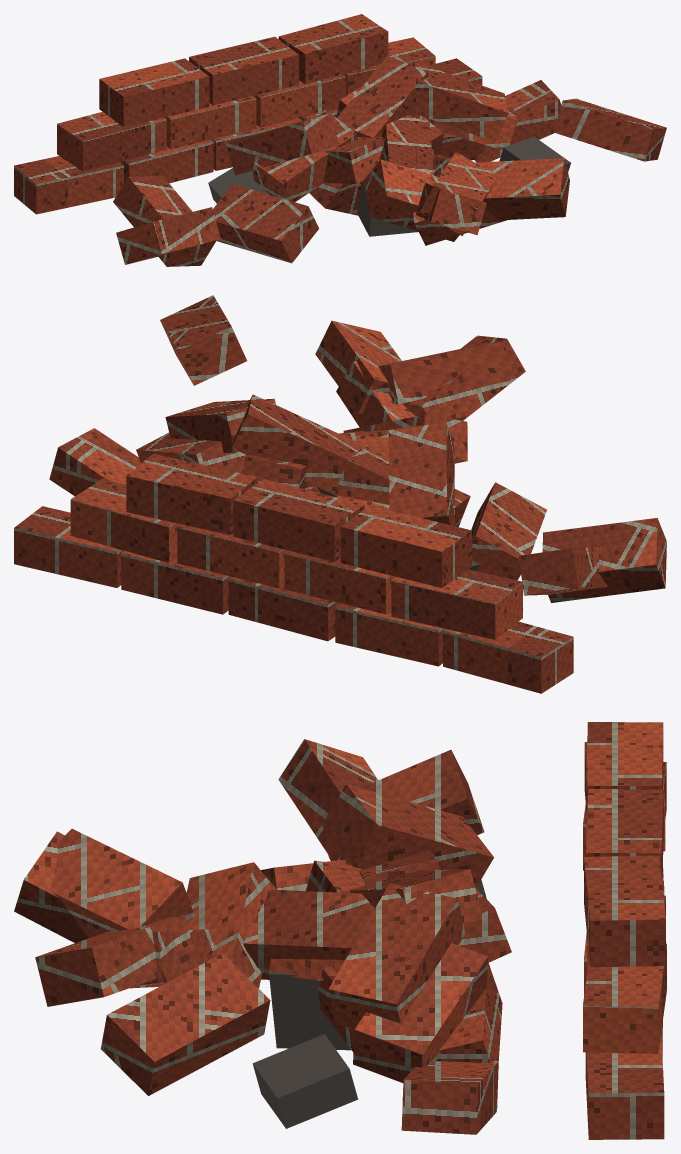
File: brick_pile.glb
3 views of the same model, one above another, from view 1: azimuth 30°, elevation 25°; view 2: azimuth 150°, elevation 25°; view 3: azimuth 270°, elevation 25° (orthographic). The views are drawn at different scales.
Parts seen in each view (by area): view 1: brick_pile-col; view 2: brick_pile-col; view 3: brick_pile-col.
Part boxes in pixels (left/top/right/bottom): brick_pile-col: left=14, top=14, right=666, bottom=266; brick_pile-col: left=14, top=295, right=666, bottom=693; brick_pile-col: left=14, top=722, right=666, bottom=1139.
Bounding box in the file's own units: 1.14 × 0.3117 × 0.8643.
Materials: 3 (2 with a texture image).
